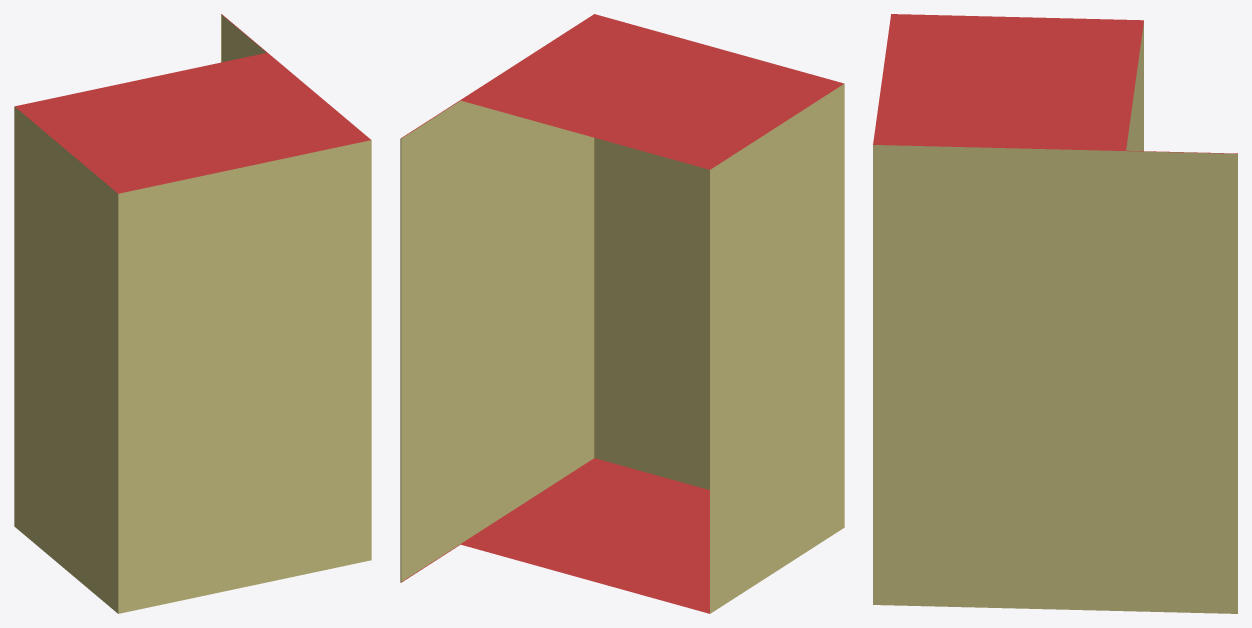
3 renders of one model, left to right at view 1: azimuth 30°, elevation 25°; view 2: azimuth 150°, elevation 25°; view 3: azimuth 270°, elevation 25°, orthographic. The views are drawn at different scales.
Bounding box in the file's own units: 4.75 × 5.24 × 7.29.
